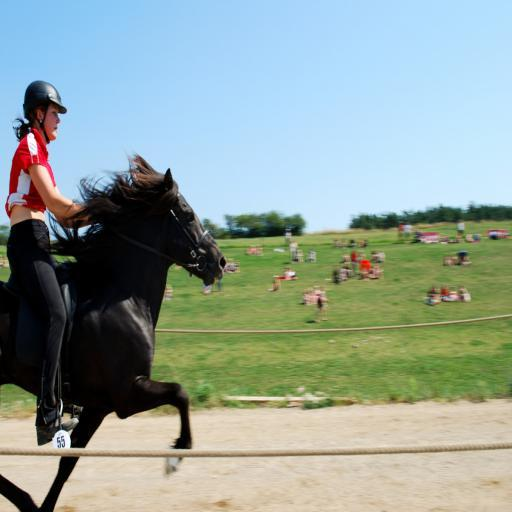Horse: (0, 148, 227, 512)
